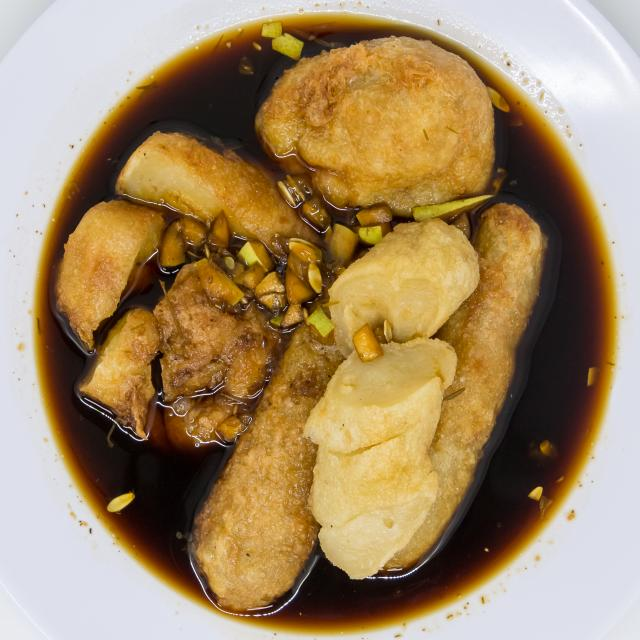Pempek-Palembang: (44, 25, 551, 626)
